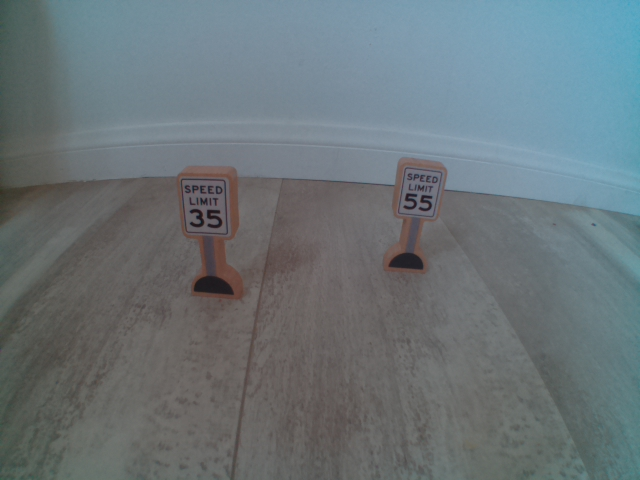Speed Limit 35: (175, 173, 230, 237)
Speed Limit 55: (396, 163, 442, 220)
